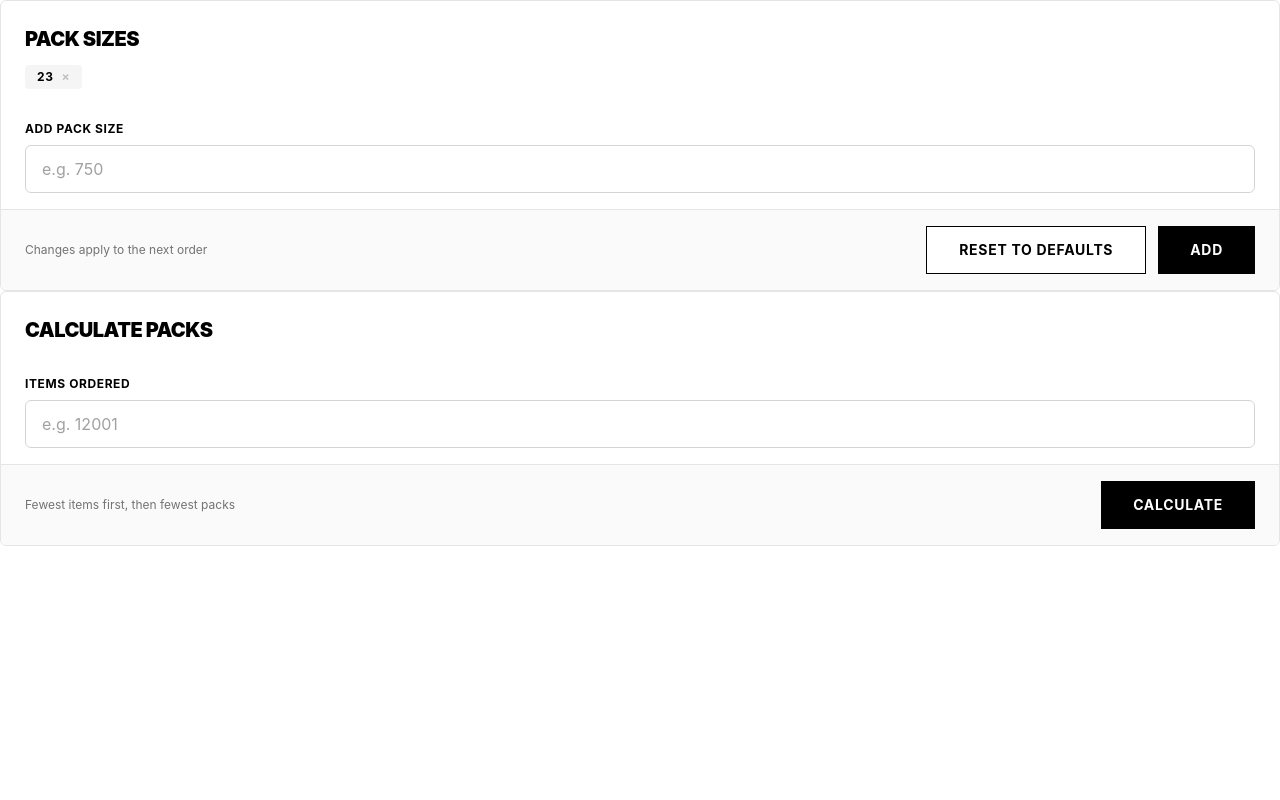
Test: PackCalculator › resets pack sizes to the defaults
The width and height of the screenshot is (1280, 800).
Expected: the text "23" is shown, [37, 69, 54, 84]
Click the button "Reset to defaults": (1036, 250) [926, 226, 1146, 274]
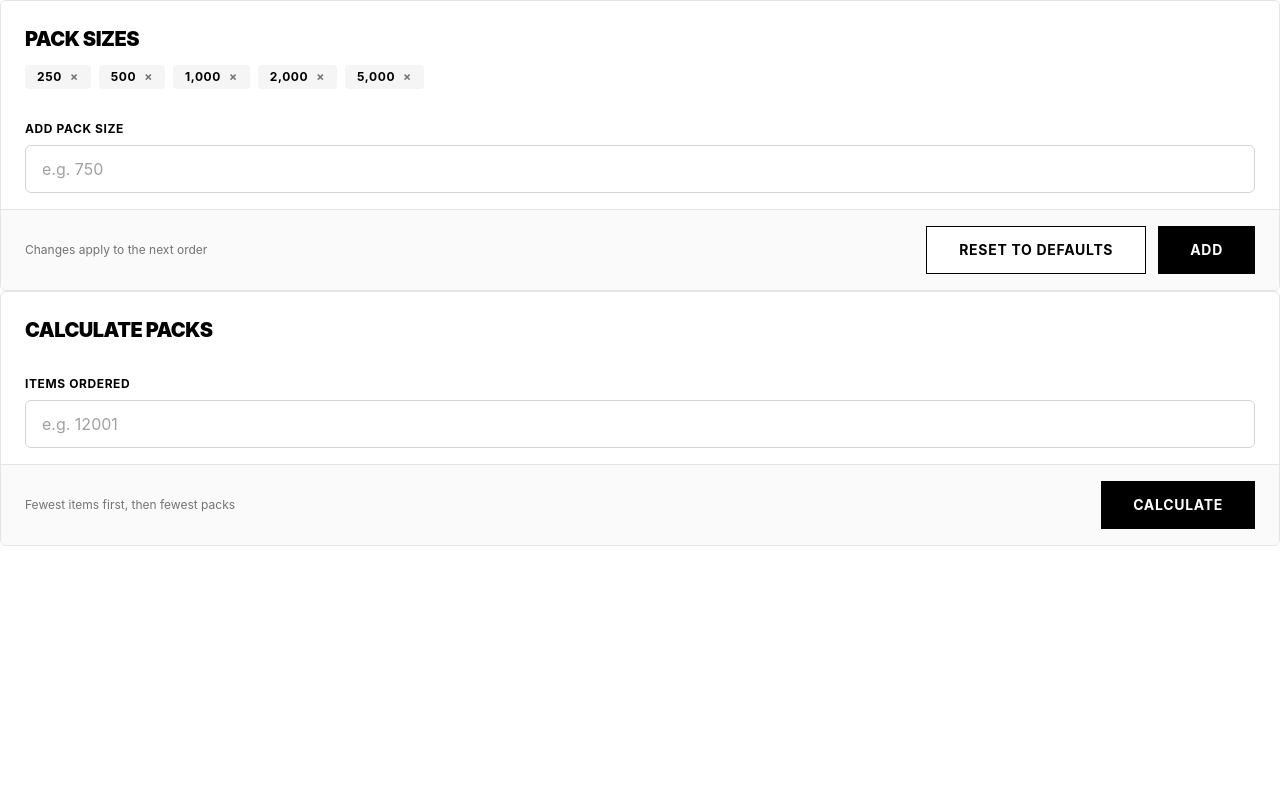
Result: the text "5,000" is shown at [357, 69, 395, 84]
Result: the text "23" is gone
